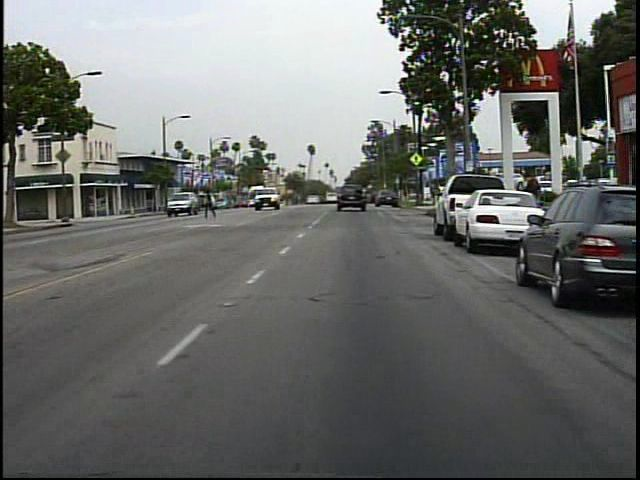person: (519, 169, 547, 226), (200, 184, 219, 221)
